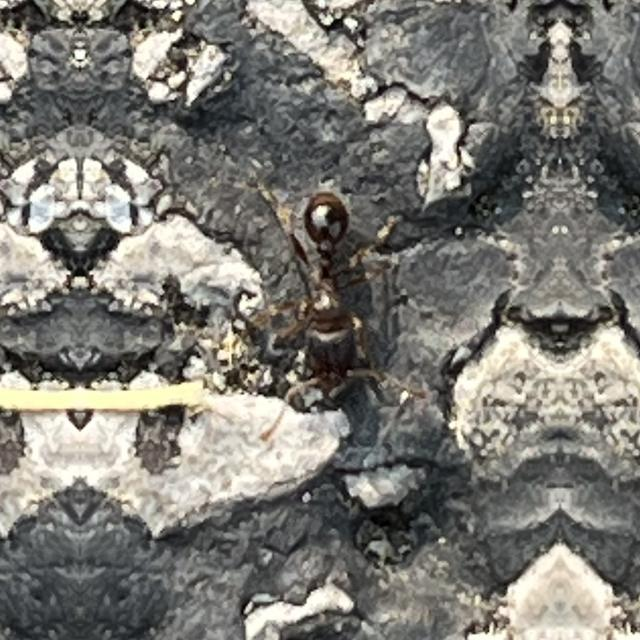Tetramorium: (255, 176, 402, 404)
